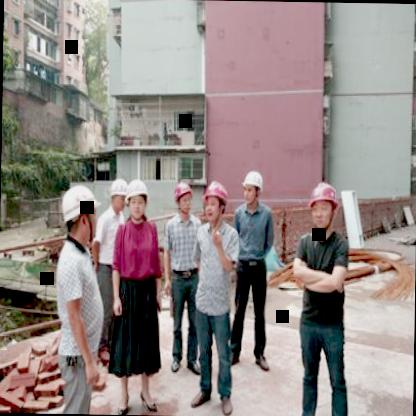helmet: (59, 184, 101, 246), (304, 181, 340, 231), (199, 180, 226, 224), (124, 175, 148, 219), (240, 168, 265, 206), (173, 178, 194, 214), (110, 176, 128, 210)
